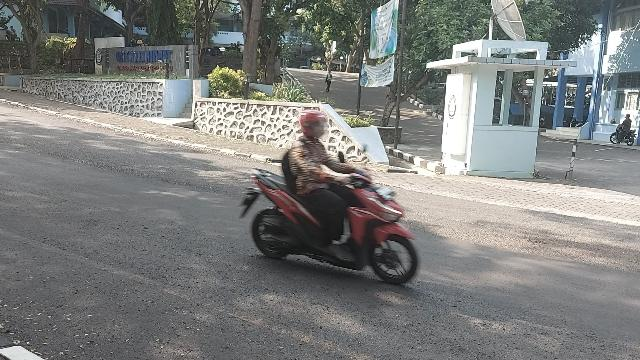helm: (301, 111, 328, 138)
motor: (241, 145, 420, 287)
